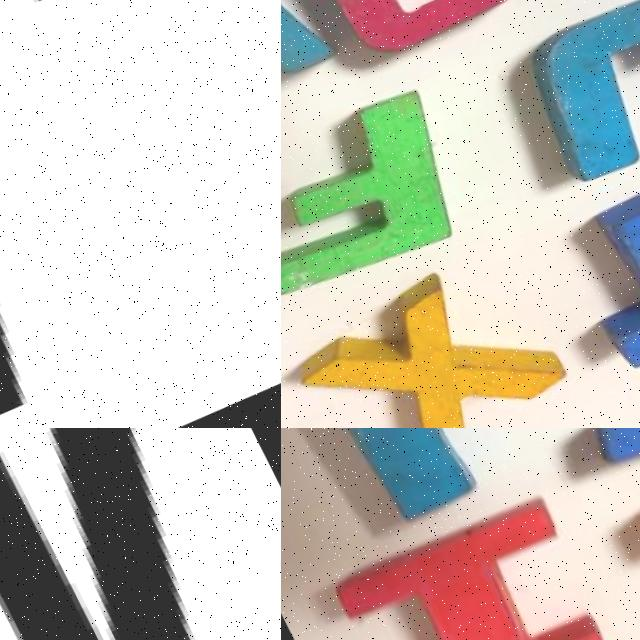F: (281, 83, 482, 315)
I: (320, 479, 620, 640)
J: (0, 0, 281, 428), (288, 428, 604, 540), (502, 0, 640, 193)
M: (0, 428, 281, 640)
O: (284, 0, 551, 72)
T: (548, 141, 640, 374)
X: (281, 233, 573, 428)
